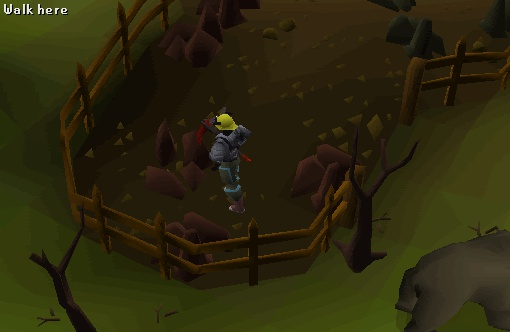coal: (374, 12, 461, 75)
iron: (279, 135, 369, 214), (131, 119, 221, 198), (142, 1, 232, 79)
